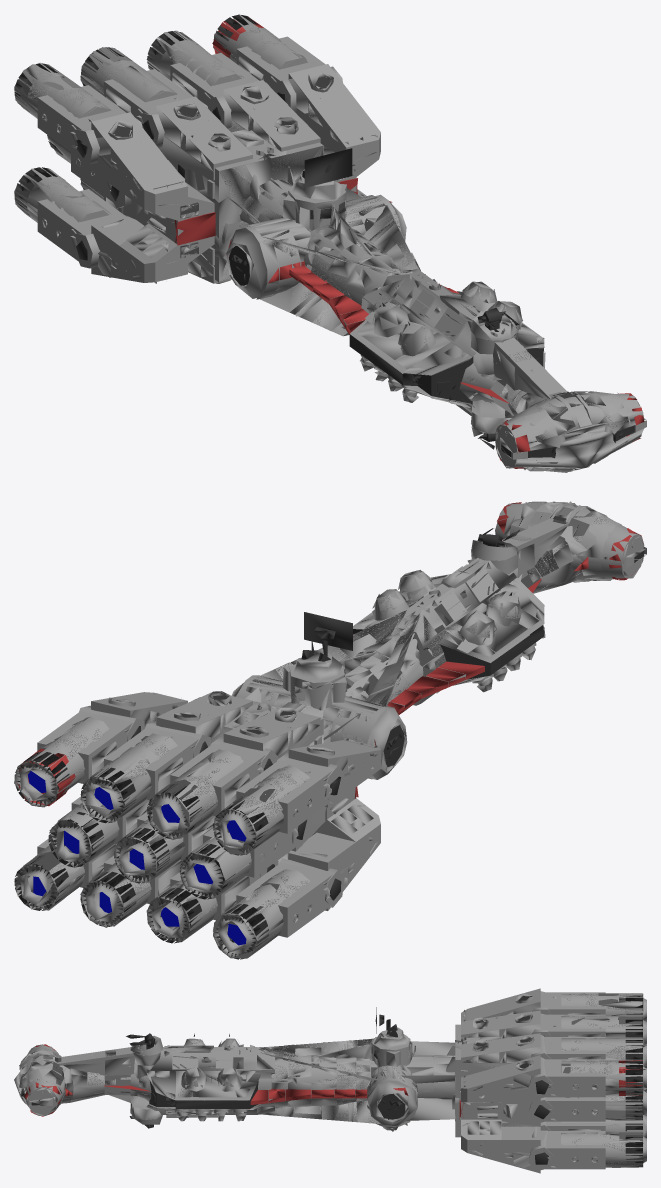
The model's file is corvette.glb.
3 views of the same model, one above another, from view 1: azimuth 30°, elevation 25°; view 2: azimuth 150°, elevation 25°; view 3: azimuth 270°, elevation 25° (orthographic). The views are drawn at different scales.
Visible parts, largest first — view 1: BackTube_0; view 2: BackTube_0; view 3: BackTube_0.
Part boxes in pixels (x1=…): BackTube_0: x1=14, y1=14, x2=646, y2=472; BackTube_0: x1=14, y1=501, x2=646, y2=959; BackTube_0: x1=14, y1=988, x2=646, y2=1173.
Size of the model in its own units: 48.33 by 32.38 by 150.
1 material, 1 textured.
